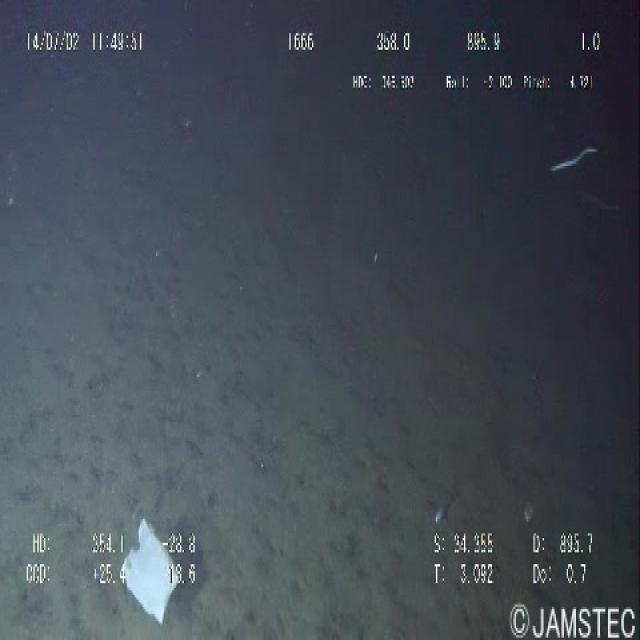plastic: (106, 512, 190, 628)
